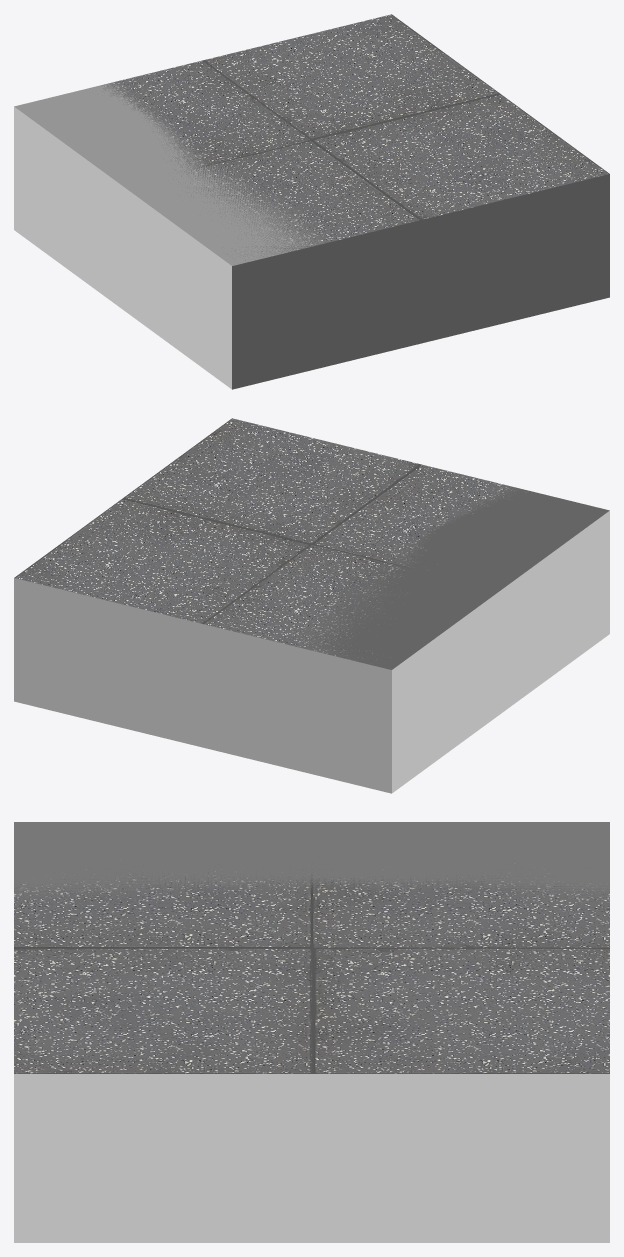
3 renders of one model, top to bottom at view 1: azimuth 30°, elevation 25°; view 2: azimuth 150°, elevation 25°; view 3: azimuth 270°, elevation 25°, orthographic. The views are drawn at different scales.
Parts seen in each view (by area): view 1: SM_Floor_80x80_01a_ConvexHulls, SM_Floor_80x80_01a; view 2: SM_Floor_80x80_01a_ConvexHulls, SM_Floor_80x80_01a; view 3: SM_Floor_80x80_01a_ConvexHulls, SM_Floor_80x80_01a.
Part boxes in pixels (x1=…): SM_Floor_80x80_01a_ConvexHulls: x1=14, y1=80, x2=609, y2=389; SM_Floor_80x80_01a: x1=101, y1=14, x2=609, y2=262; SM_Floor_80x80_01a_ConvexHulls: x1=14, y1=485, x2=609, y2=793; SM_Floor_80x80_01a: x1=14, y1=418, x2=525, y2=663; SM_Floor_80x80_01a_ConvexHulls: x1=14, y1=822, x2=609, y2=1242; SM_Floor_80x80_01a: x1=14, y1=861, x2=609, y2=1073.
Size of the model in its own units: 80 by 80 by 25.
Materials: 2 (1 with a texture image).
